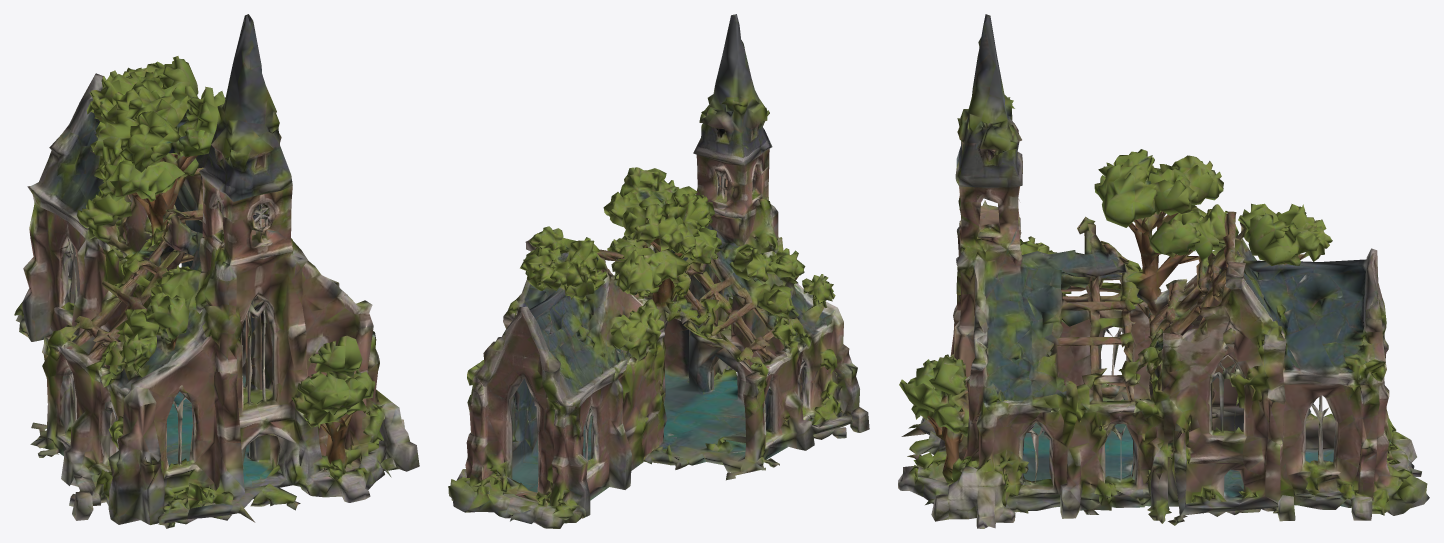
The model's file is cityChurch.glb.
3 views of the same model, side by side, from view 1: azimuth 30°, elevation 25°; view 2: azimuth 150°, elevation 25°; view 3: azimuth 270°, elevation 25° (orthographic). The views are drawn at different scales.
Size of the model in its own units: 1.27 by 1.73 by 1.89.
1 material, 1 textured.
